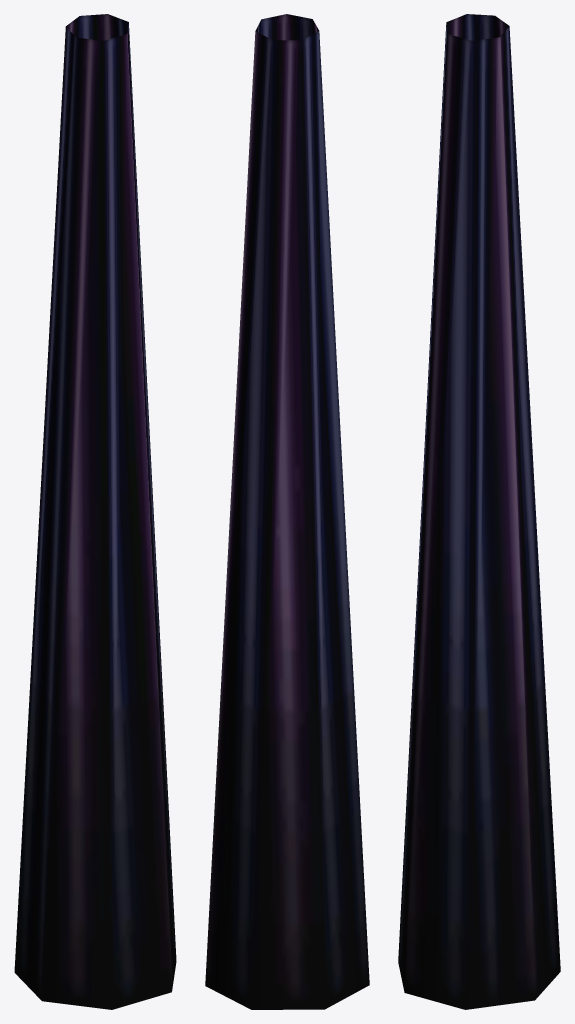
Rendered from INST_EKH_LIGHTSHAFTGR.fbx.
3 views of the same model, side by side, from view 1: azimuth 30°, elevation 25°; view 2: azimuth 150°, elevation 25°; view 3: azimuth 270°, elevation 25° (orthographic).
Parts seen in each view (by area): view 1: INST_EKH_LIGHTSHAFTGR; view 2: INST_EKH_LIGHTSHAFTGR; view 3: INST_EKH_LIGHTSHAFTGR.
Part boxes in pixels (x1=…): INST_EKH_LIGHTSHAFTGR: x1=14, y1=14, x2=176, y2=1009; INST_EKH_LIGHTSHAFTGR: x1=205, y1=14, x2=369, y2=1009; INST_EKH_LIGHTSHAFTGR: x1=398, y1=14, x2=560, y2=1009.
Bounding box in the file's own units: 29822 × 190666 × 29655.
1 material, 1 textured.
